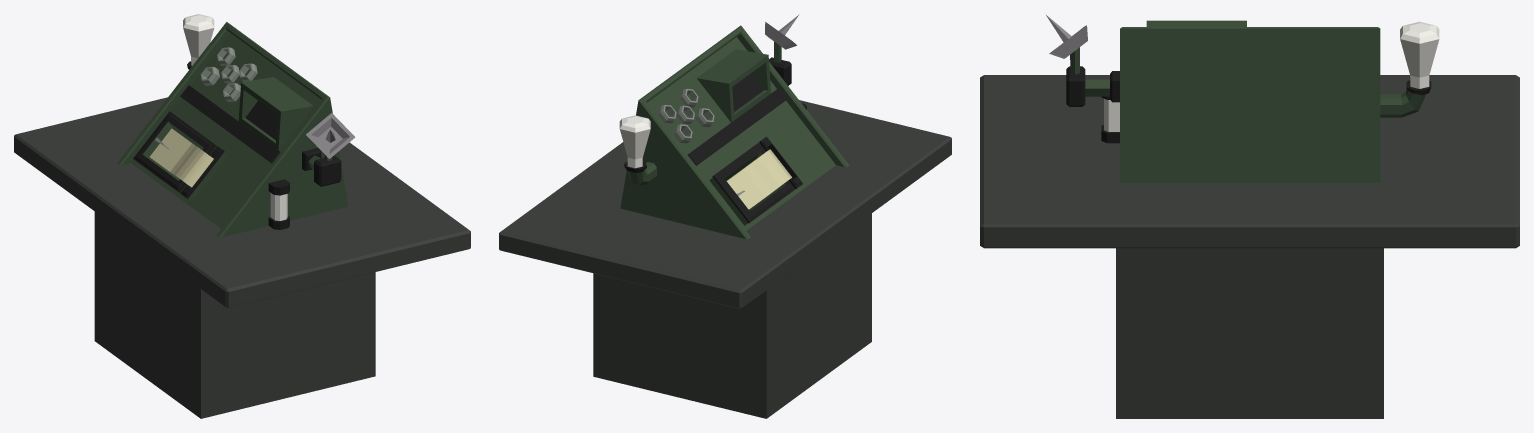
The model's file is Switch_Board_003.fbx.
3 views of the same model, side by side, from view 1: azimuth 30°, elevation 25°; view 2: azimuth 150°, elevation 25°; view 3: azimuth 270°, elevation 25° (orthographic). The views are drawn at different scales.
Visible parts, largest first — view 1: SwitchBoard_Table_001, Switchboard_Table_Legs_001, SwitchBoardBox_001, Screen_001, Paper_001, Screen_002, pCube17, GlassTube_001, Aerial_Attachment_003, Depository_001, Glass_Tube_003; view 2: SwitchBoard_Table_001, Switchboard_Table_Legs_001, SwitchBoardBox_001, Screen_001, Screen_002, Paper_001, GlassTube_001, BulbTubing_001, Depository_001; view 3: SwitchBoard_Table_001, Switchboard_Table_Legs_001, SwitchBoardBox_001, GlassTube_001, BulbTubing_001, Aerial_Attachment_003, Screen_001, pCube17, Glass_Tube_003.
Part boxes in pixels (x1,y1,x2,y2): SwitchBoard_Table_001: [14, 97, 470, 308]; Switchboard_Table_Legs_001: [94, 211, 375, 418]; SwitchBoardBox_001: [117, 22, 348, 237]; Screen_001: [238, 77, 313, 150]; Paper_001: [150, 128, 213, 187]; Screen_002: [133, 111, 216, 192]; pCube17: [306, 113, 355, 158]; GlassTube_001: [183, 14, 214, 65]; Aerial_Attachment_003: [314, 155, 341, 186]; Depository_001: [180, 146, 227, 201]; Glass_Tube_003: [270, 193, 287, 220]; SwitchBoard_Table_001: [499, 100, 951, 309]; Switchboard_Table_Legs_001: [593, 213, 871, 418]; SwitchBoardBox_001: [620, 25, 849, 239]; Screen_001: [697, 49, 770, 122]; Screen_002: [709, 142, 794, 225]; Paper_001: [727, 149, 791, 209]; GlassTube_001: [619, 115, 650, 168]; BulbTubing_001: [624, 161, 656, 184]; Depository_001: [759, 136, 802, 188]; SwitchBoard_Table_001: [980, 75, 1519, 248]; Switchboard_Table_Legs_001: [1116, 248, 1383, 418]; SwitchBoardBox_001: [1120, 27, 1380, 182]; GlassTube_001: [1400, 21, 1439, 88]; BulbTubing_001: [1380, 80, 1431, 117]; Aerial_Attachment_003: [1066, 66, 1085, 106]; Screen_001: [1146, 20, 1246, 26]; pCube17: [1049, 25, 1087, 58]; Glass_Tube_003: [1104, 98, 1119, 131].
Bounding box in the file's own units: 277 × 311 × 418.
Materials: 2 (2 with a texture image).
